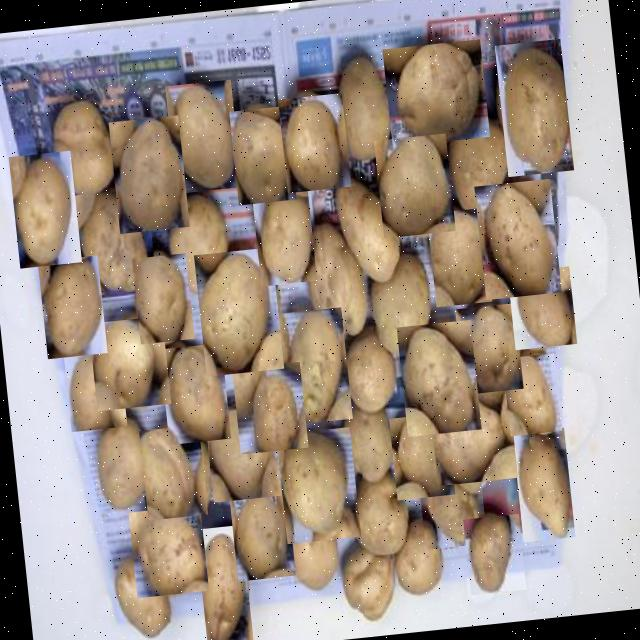Damaged potato: (381, 38, 489, 146), (72, 187, 156, 296), (336, 472, 414, 564), (336, 542, 405, 620), (417, 472, 486, 548)
Potato: (192, 246, 282, 375), (29, 95, 132, 201), (493, 38, 572, 176), (472, 177, 560, 299), (395, 318, 480, 436), (274, 426, 360, 542), (107, 114, 188, 232), (360, 250, 440, 361), (276, 306, 351, 424), (163, 78, 240, 192), (320, 174, 402, 280), (372, 132, 454, 237), (8, 150, 80, 268), (428, 388, 516, 484), (298, 220, 368, 340), (436, 115, 514, 217), (87, 315, 170, 410), (203, 401, 280, 502), (126, 504, 208, 596), (158, 342, 230, 444), (277, 92, 350, 192), (36, 254, 106, 358), (230, 361, 308, 454), (511, 426, 574, 541), (166, 188, 232, 294), (326, 51, 389, 162), (85, 414, 155, 512), (228, 104, 296, 204), (250, 182, 316, 285), (194, 523, 252, 640), (425, 207, 491, 306), (138, 424, 206, 520), (228, 482, 294, 580), (334, 392, 402, 487), (453, 302, 522, 394), (506, 265, 576, 349), (130, 252, 193, 343), (388, 411, 453, 499), (108, 558, 176, 640), (62, 348, 126, 432), (462, 512, 526, 594), (277, 514, 340, 596), (338, 332, 397, 419), (501, 352, 561, 435), (387, 526, 450, 596)
